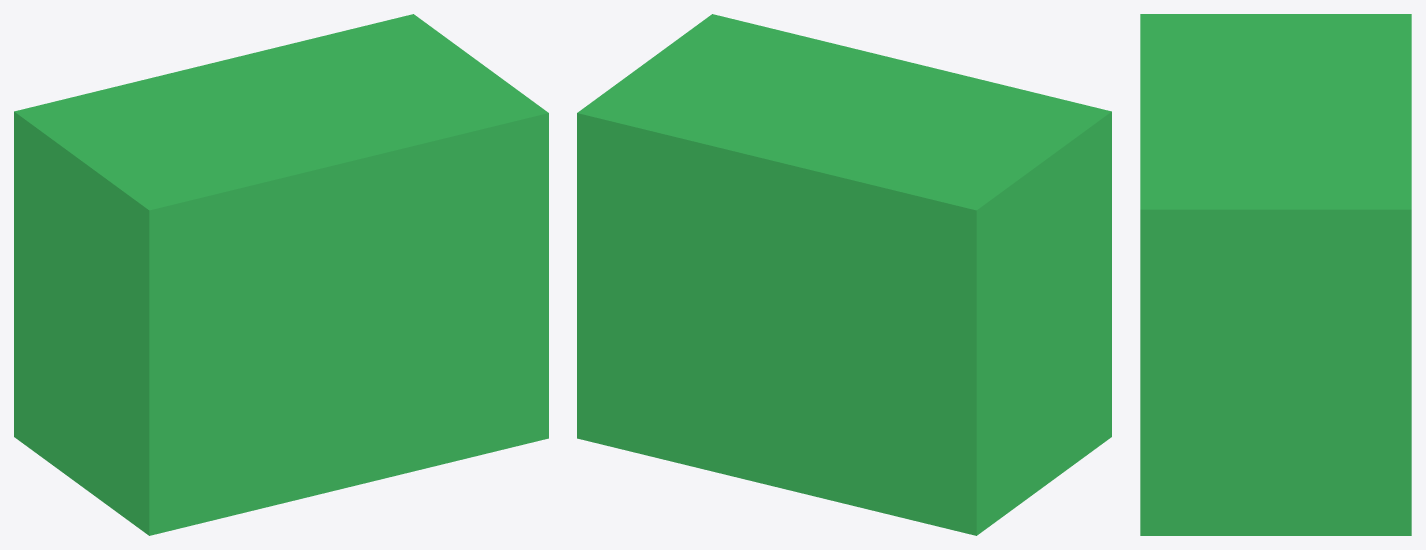
Rendered from cube-globe3.gltf.
The picture shows the model from 3 angles, left to right: view 1: azimuth 30°, elevation 25°; view 2: azimuth 150°, elevation 25°; view 3: azimuth 270°, elevation 25°; orthographic projection.
Visible parts, largest first — view 1: Box; view 2: Box; view 3: Box.
Boxes of the visible parts, bbox=[...] form: Box: bbox=[14, 14, 548, 535]; Box: bbox=[577, 14, 1111, 535]; Box: bbox=[1140, 14, 1411, 535].
Size of the model in its own units: 4.96 by 3.86 by 2.91.
